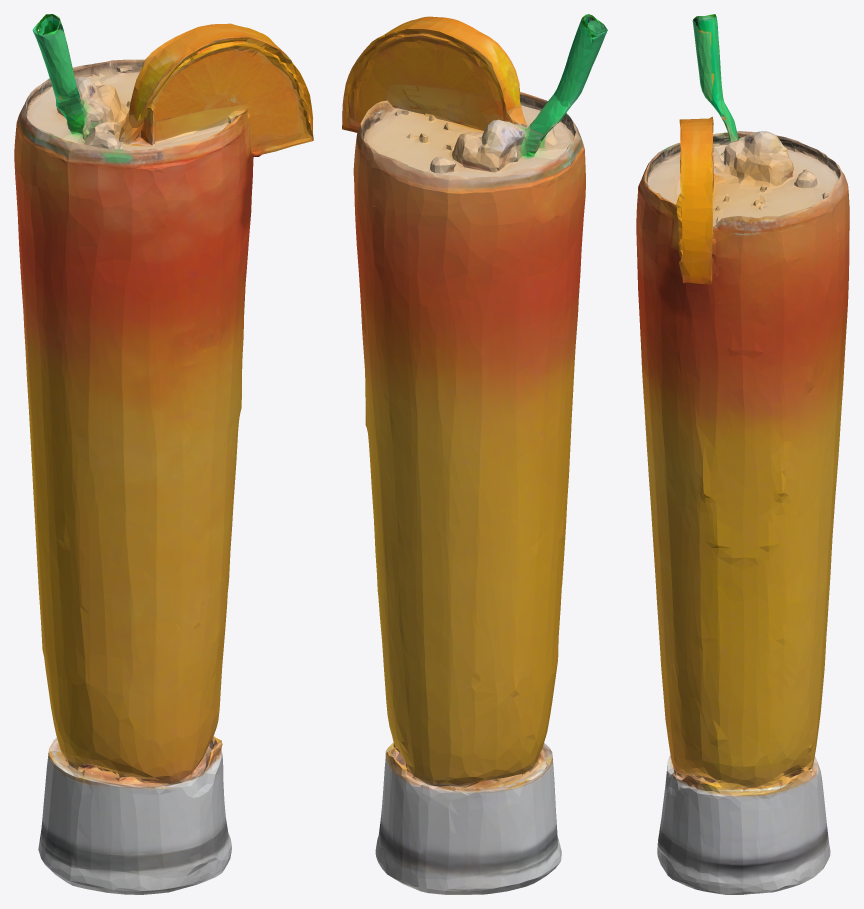
The picture shows the model from 3 angles, left to right: view 1: azimuth 30°, elevation 25°; view 2: azimuth 150°, elevation 25°; view 3: azimuth 270°, elevation 25°; orthographic projection. The views are drawn at different scales.
Parts seen in each view (by area): view 1: temp; view 2: temp; view 3: temp.
Part boxes in pixels (x1=…): temp: x1=14, y1=14, x2=313, y2=894; temp: x1=342, y1=14, x2=607, y2=894; temp: x1=636, y1=14, x2=849, y2=894.
Size of the model in its own units: 63.91 by 200 by 48.24.
1 material, 1 textured.
